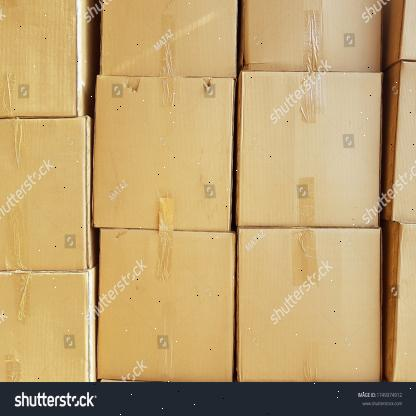box: (236, 69, 384, 227), (94, 74, 232, 232), (239, 228, 382, 378), (97, 230, 233, 378), (0, 120, 87, 268), (100, 0, 236, 76), (244, 0, 382, 71), (0, 272, 88, 380), (0, 0, 77, 117)
